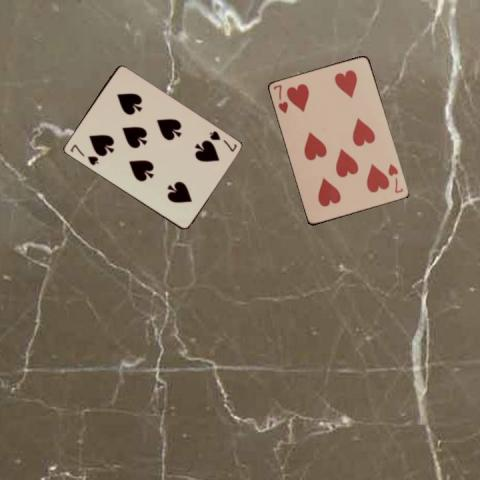7h: (385, 161, 405, 194), (271, 82, 289, 115)
7s: (67, 141, 100, 167), (206, 128, 238, 153)
